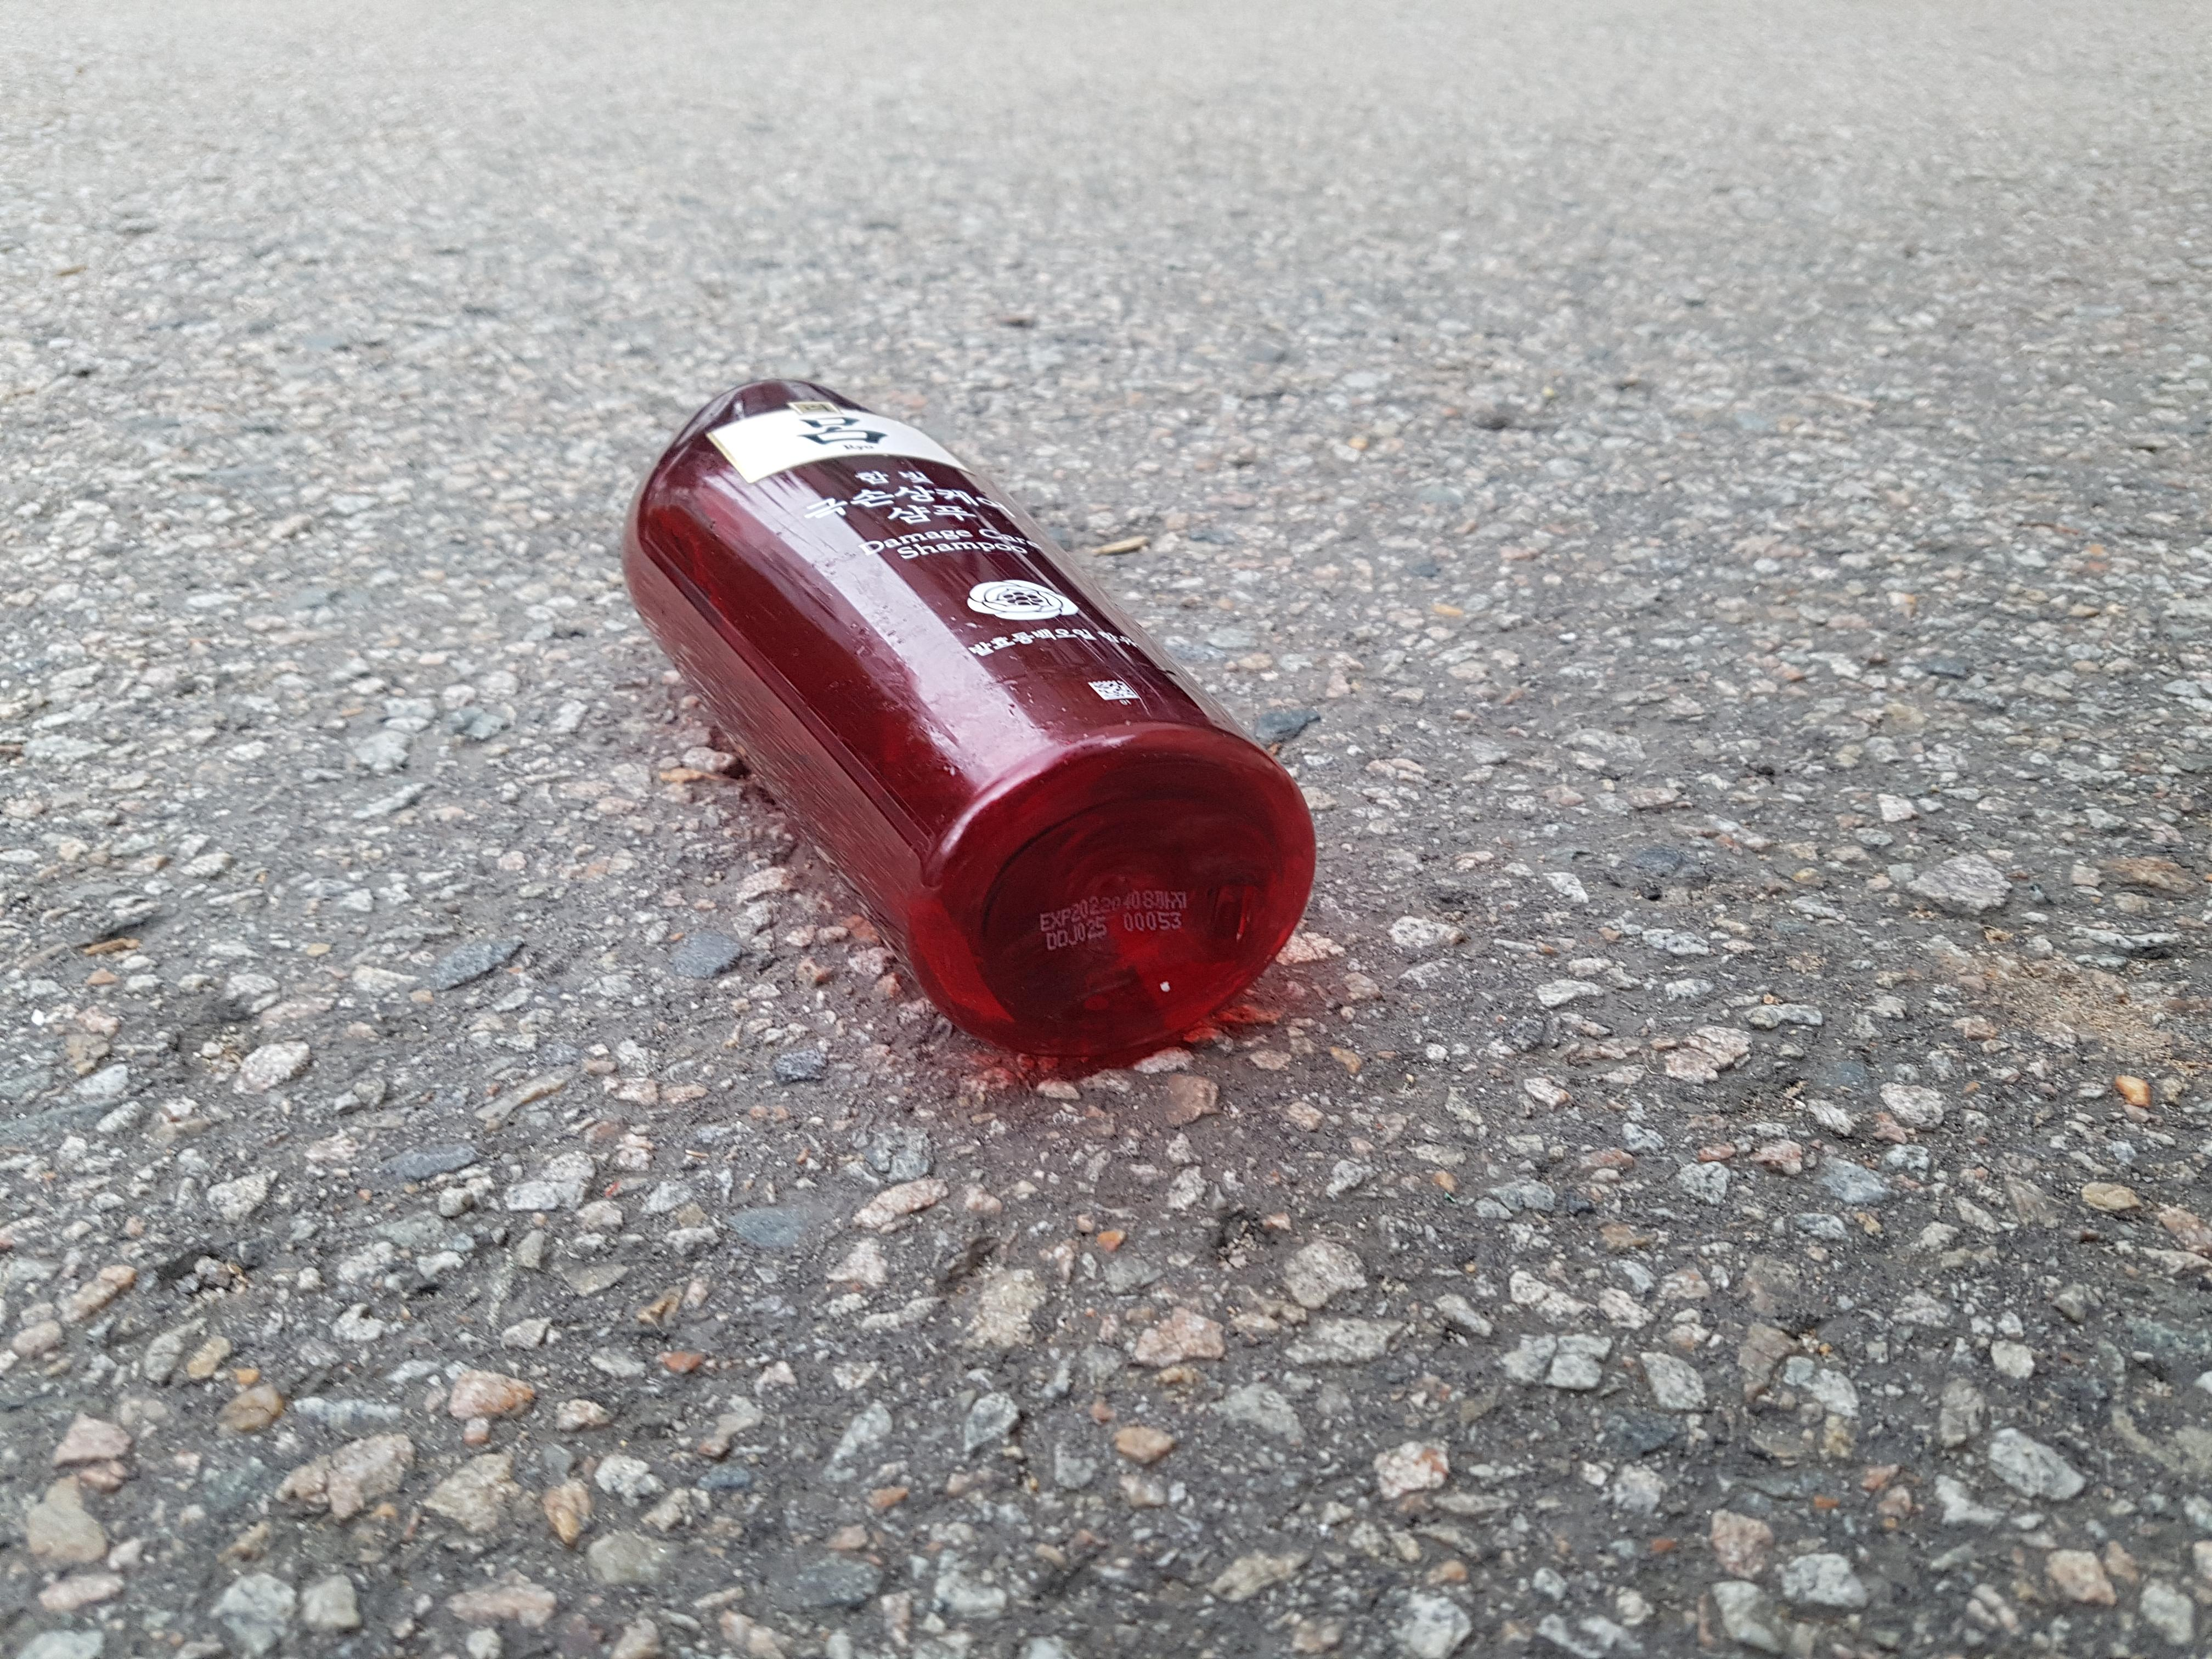bottle: (561, 349, 1338, 1115)
